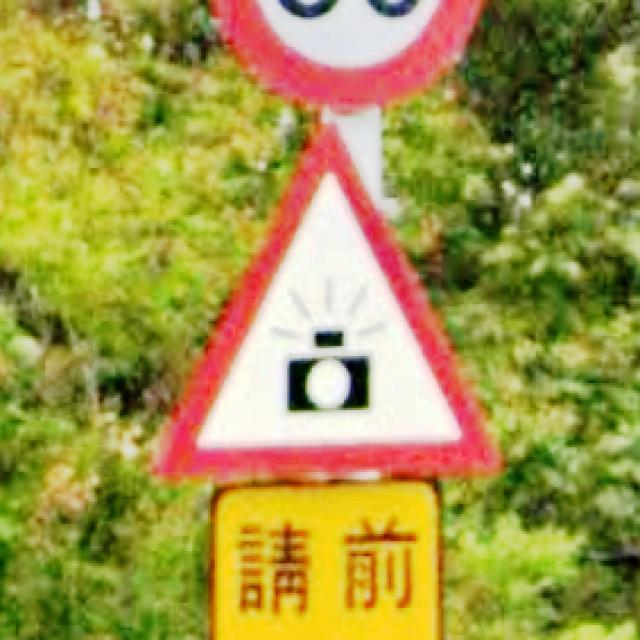speedcamera: (150, 119, 504, 482)
